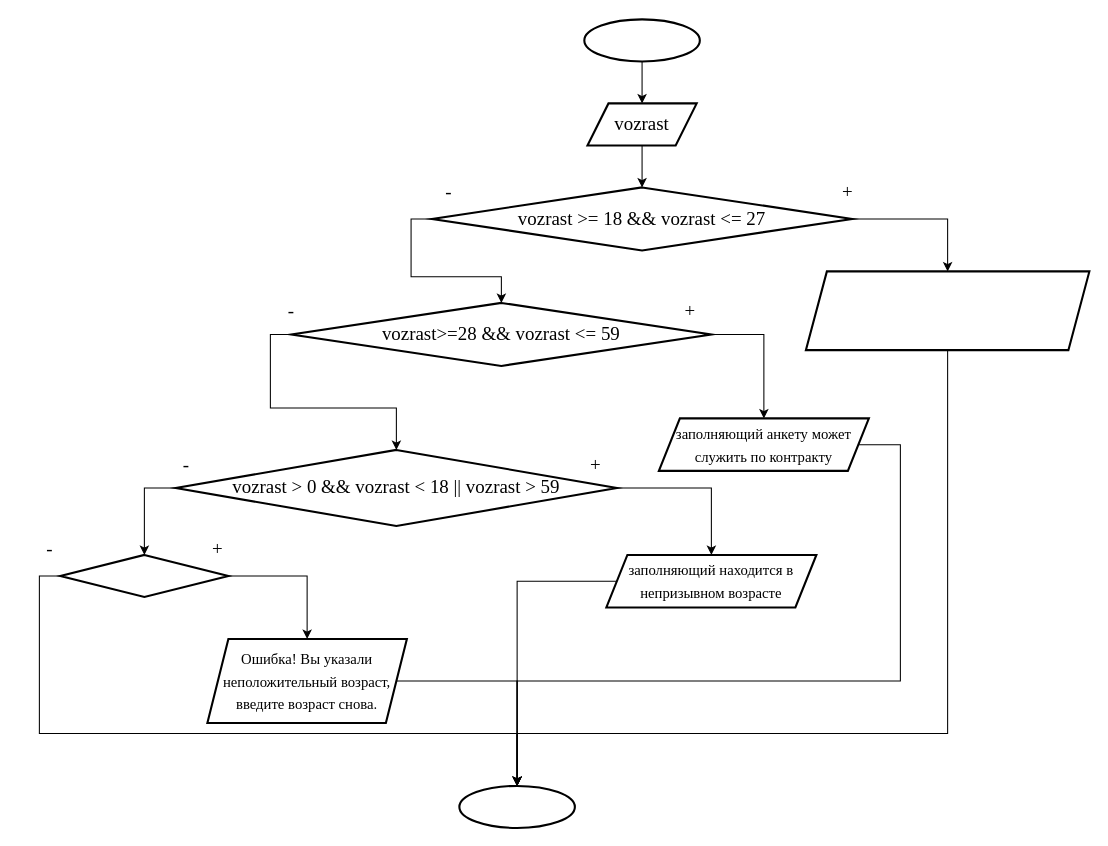
The diagram is 1108 pixels wide and 846 high, and some of its shapes have lost their labels. Each missing label, with the centre of its shape:
vozrast < 0: (144,575)
Конец: (516,806)
Начало: (641,40)
человек подлежит призыву на срочную службу или может служить по контракту: (947,310)
